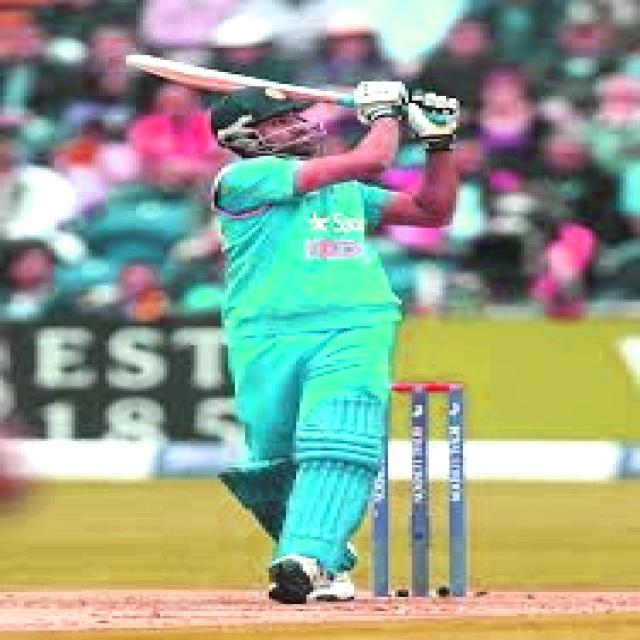toe: (117, 50, 162, 72)
